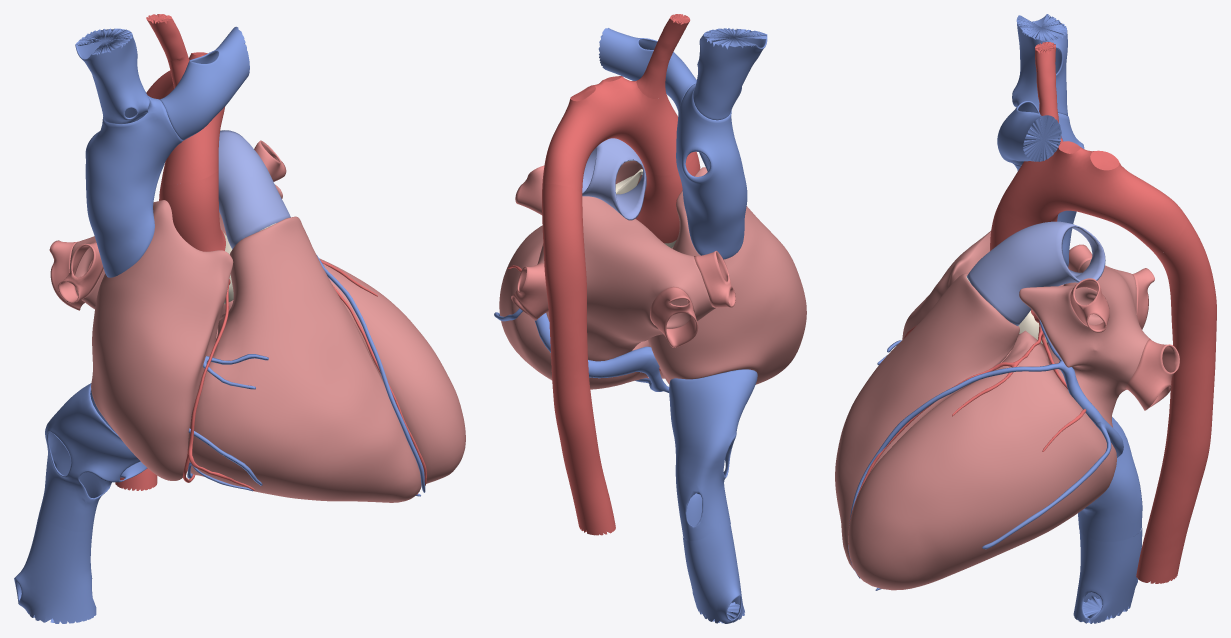
The model's file is heart_hra.glb.
The picture shows the model from 3 angles, left to right: view 1: azimuth 30°, elevation 25°; view 2: azimuth 150°, elevation 25°; view 3: azimuth 270°, elevation 25°; orthographic projection. The views are drawn at different scales.
Visible parts, largest first — view 1: Right ventricle, Right atrium, Inferior vena cava (thoracic part), Superior vena cava, Left ventricle, Pulmonary trunk, Left brachiocephalic vein, Right brachiocephalic vein, Ascending aorta, Aortic arch, Brachiocephalic trunk, Right superior pulmonary vein (+7 smaller); view 2: Right atrium, Inferior vena cava (thoracic part), Thoracic aorta, Left atrium, Aortic arch, Superior vena cava, Right brachiocephalic vein, Left ventricle, Left brachiocephalic vein, Pulmonary trunk, Ascending aorta, Coronary sinus (+5 smaller); view 3: Left ventricle, Right ventricle, Thoracic aorta, Aortic arch, Left atrium, Inferior vena cava (thoracic part), Pulmonary trunk, Right brachiocephalic vein, Left brachiocephalic vein, Left inferior pulmonary vein, Coronary sinus, Right atrium (+7 smaller).
Boxes of the visible parts, x1=… form: Right ventricle: x1=187, y1=216, x2=421, y2=502; Right atrium: x1=91, y1=200, x2=233, y2=480; Inferior vena cava (thoracic part): x1=14, y1=383, x2=147, y2=623; Superior vena cava: x1=85, y1=96, x2=182, y2=277; Left ventricle: x1=219, y1=258, x2=465, y2=483; Pulmonary trunk: x1=218, y1=130, x2=290, y2=249; Left brachiocephalic vein: x1=160, y1=26, x2=249, y2=140; Right brachiocephalic vein: x1=75, y1=28, x2=149, y2=124; Ascending aorta: x1=159, y1=170, x2=225, y2=251; Aortic arch: x1=146, y1=52, x2=225, y2=184; Brachiocephalic trunk: x1=146, y1=14, x2=189, y2=88; Right superior pulmonary vein: x1=58, y1=242, x2=103, y2=303; Right atrium: x1=648, y1=167, x2=806, y2=384; Inferior vena cava (thoracic part): x1=669, y1=369, x2=757, y2=623; Thoracic aorta: x1=542, y1=184, x2=615, y2=535; Left atrium: x1=537, y1=196, x2=715, y2=361; Aortic arch: x1=542, y1=76, x2=694, y2=194; Superior vena cava: x1=676, y1=84, x2=747, y2=259; Right brachiocephalic vein: x1=693, y1=28, x2=767, y2=120; Left ventricle: x1=499, y1=225, x2=649, y2=389; Left brachiocephalic vein: x1=598, y1=28, x2=696, y2=111; Pulmonary trunk: x1=582, y1=138, x2=646, y2=220; Ascending aorta: x1=635, y1=151, x2=700, y2=243; Coronary sinus: x1=494, y1=308, x2=669, y2=392; Left ventricle: x1=848, y1=330, x2=1116, y2=590; Right ventricle: x1=835, y1=273, x2=1019, y2=570; Thoracic aorta: x1=1136, y1=218, x2=1216, y2=583; Aortic arch: x1=998, y1=141, x2=1187, y2=254; Left atrium: x1=1019, y1=259, x2=1149, y2=427; Inferior vena cava (thoracic part): x1=1073, y1=417, x2=1142, y2=623; Pulmonary trunk: x1=967, y1=221, x2=1105, y2=325; Right brachiocephalic vein: x1=1012, y1=14, x2=1067, y2=115; Left brachiocephalic vein: x1=997, y1=101, x2=1061, y2=164; Left inferior pulmonary vein: x1=1125, y1=339, x2=1179, y2=410; Coronary sinus: x1=982, y1=320, x2=1123, y2=549; Right atrium: x1=902, y1=230, x2=1063, y2=339.
Size of the model in its own units: 0.1424 by 0.246 by 0.1426.
